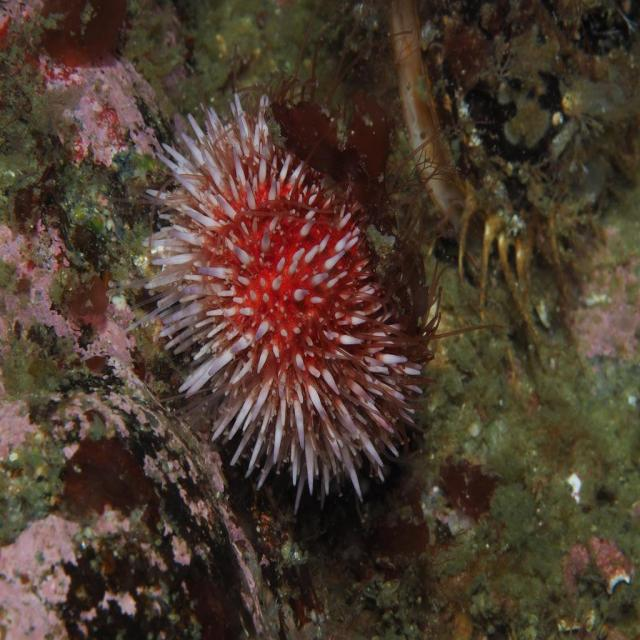Deniz Kestanesi: (113, 42, 503, 519)
